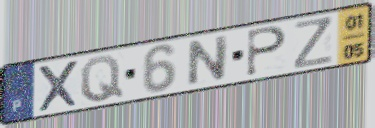6: (140, 41, 179, 97)
N: (185, 32, 231, 88)
P: (244, 24, 289, 78)
Q: (78, 54, 126, 104)
X: (35, 58, 81, 115)
Z: (293, 14, 335, 71)
